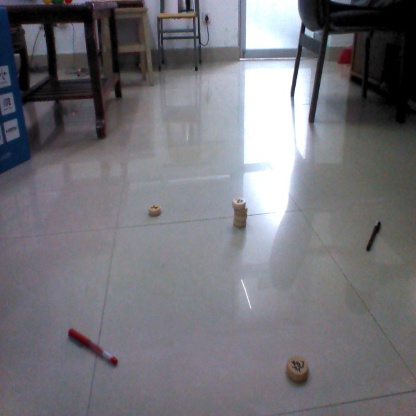chess: (284, 352, 311, 380), (231, 198, 250, 233), (147, 204, 166, 218)
pen: (65, 328, 121, 364), (363, 215, 382, 251)
